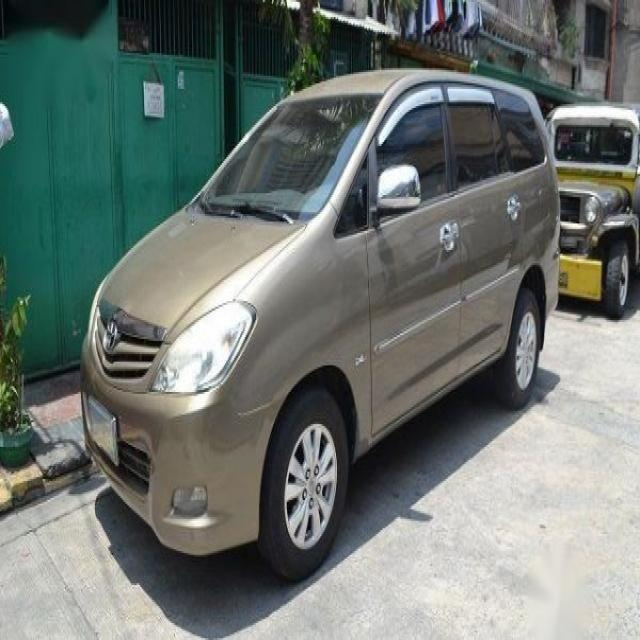light_vehicle: (79, 64, 562, 584)
